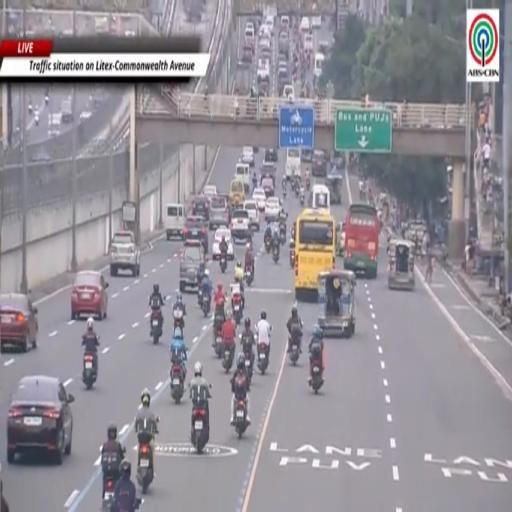bus: (295, 208, 335, 300), (343, 203, 380, 278), (312, 184, 330, 211), (285, 149, 300, 181)
car: (7, 376, 74, 465), (0, 294, 38, 351), (71, 270, 108, 319), (180, 240, 206, 292), (110, 231, 140, 276), (184, 216, 208, 253), (212, 227, 234, 260), (230, 208, 250, 244), (209, 197, 229, 230), (244, 200, 260, 231), (192, 196, 209, 220), (265, 197, 281, 221), (218, 194, 232, 221), (261, 174, 275, 198), (252, 188, 266, 212), (240, 146, 255, 168), (257, 59, 269, 85), (61, 100, 74, 123), (261, 159, 276, 177), (262, 15, 274, 35), (264, 148, 278, 162), (203, 185, 217, 199), (283, 85, 294, 101), (300, 16, 310, 33), (301, 150, 312, 163), (280, 15, 290, 29), (311, 16, 321, 29)
jeepney: (318, 270, 356, 338), (388, 240, 414, 290)
motorcycle: (100, 447, 125, 511), (137, 431, 154, 494), (191, 406, 208, 454), (170, 359, 184, 404), (83, 352, 97, 390), (235, 398, 248, 438), (310, 358, 323, 393), (102, 477, 115, 511), (212, 317, 222, 358), (150, 310, 162, 344), (257, 344, 269, 376), (222, 344, 235, 373), (245, 351, 253, 390), (173, 308, 184, 335), (289, 339, 300, 365), (233, 294, 242, 325), (201, 294, 211, 316), (245, 266, 253, 286), (264, 234, 272, 252), (220, 253, 227, 273), (289, 240, 294, 267), (280, 226, 286, 245), (273, 246, 279, 264), (198, 286, 202, 307), (34, 110, 39, 125), (44, 94, 50, 105), (300, 194, 305, 206), (282, 187, 287, 198), (28, 103, 32, 115), (295, 187, 299, 198), (306, 178, 310, 189)
